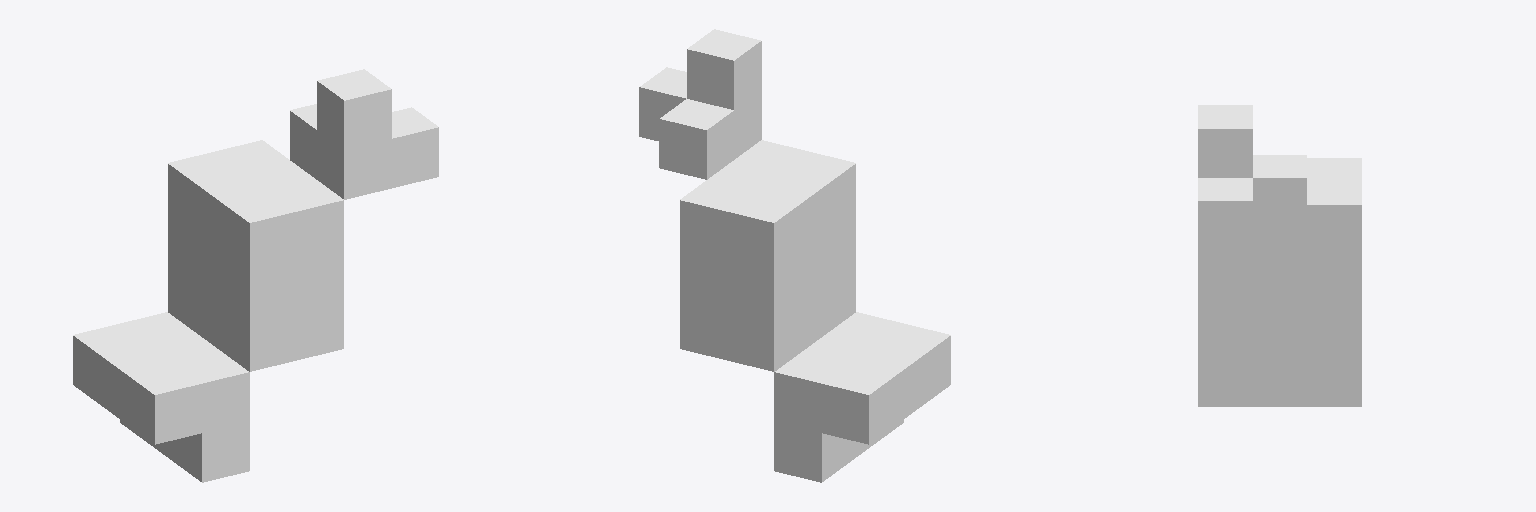
File: bombeman-1-legr.obj
3 views of the same model, side by side, from view 1: azimuth 30°, elevation 25°; view 2: azimuth 150°, elevation 25°; view 3: azimuth 270°, elevation 25° (orthographic).
Visible parts, largest first — view 1: legr; view 2: legr; view 3: legr.
Boxes of the visible parts, x1=… form: legr: x1=73, y1=69, x2=438, y2=482; legr: x1=639, y1=29, x2=950, y2=482; legr: x1=1198, y1=105, x2=1361, y2=406.
Bounding box in the file's own units: 0.6 × 0.7 × 0.3.